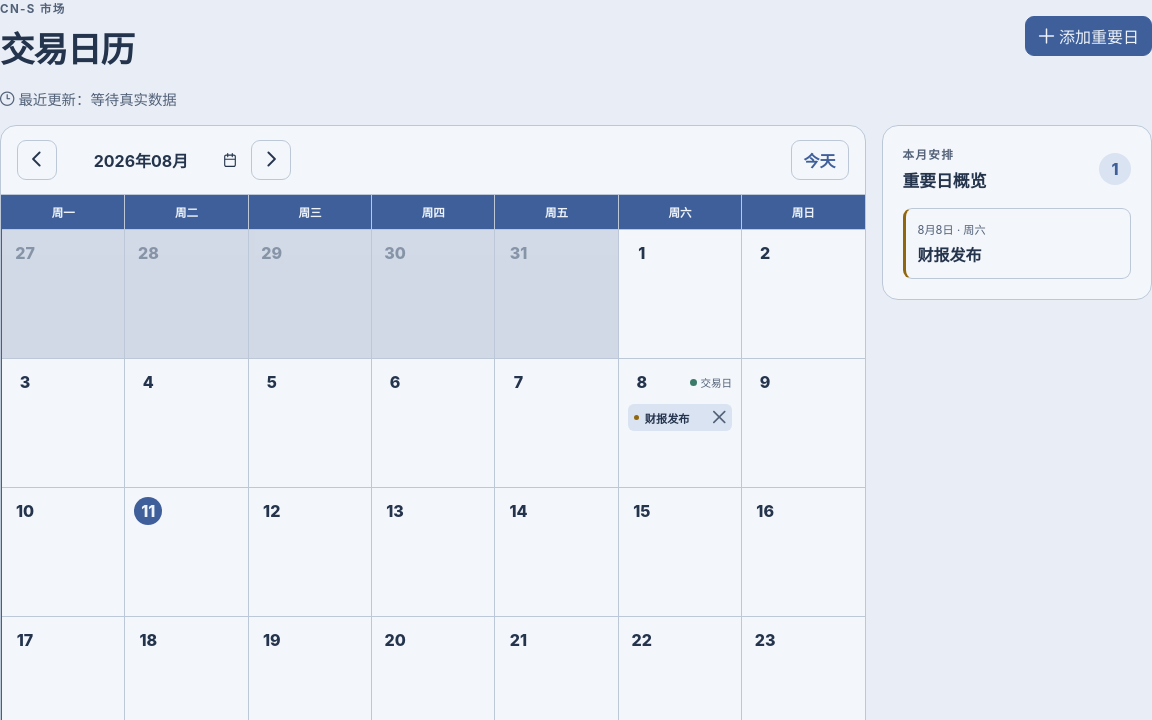
calendar workspace › edits an important date and keeps the refreshed API value
Click the button with aria-label "编辑重要日" at (667, 418), box [628,404,706,431]
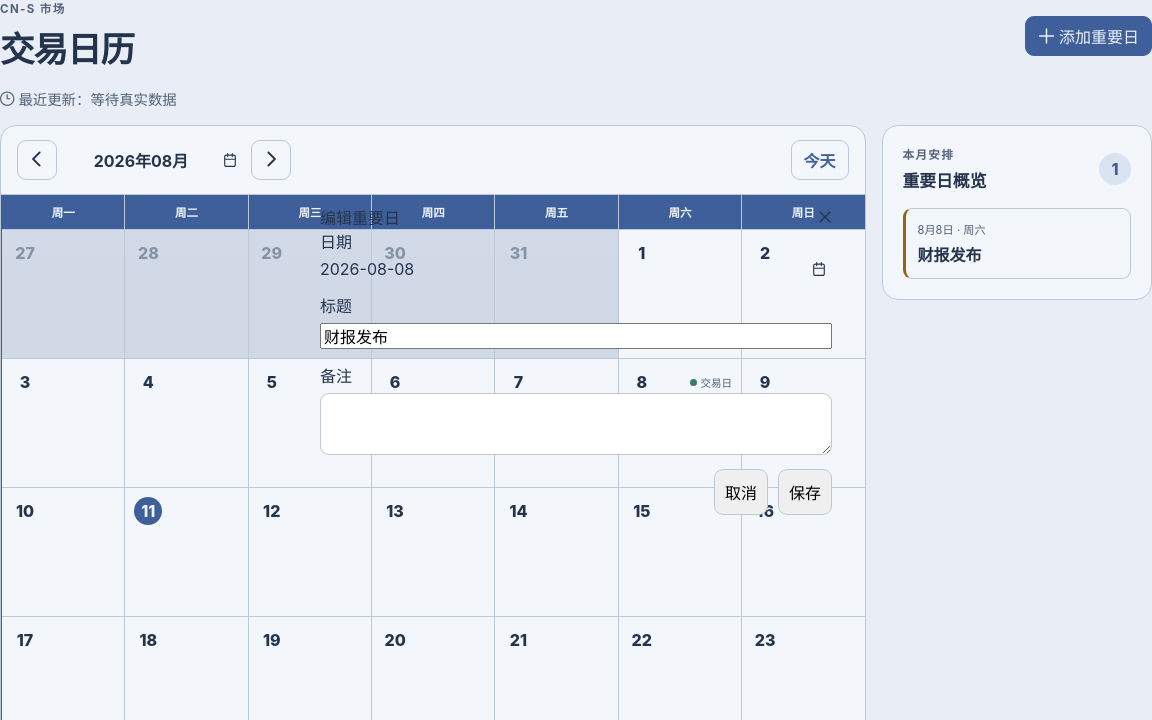
Replace the text in the dropdown labelled "日期" with "财报发布（更新）" at (563, 269), box [320,259,806,279]
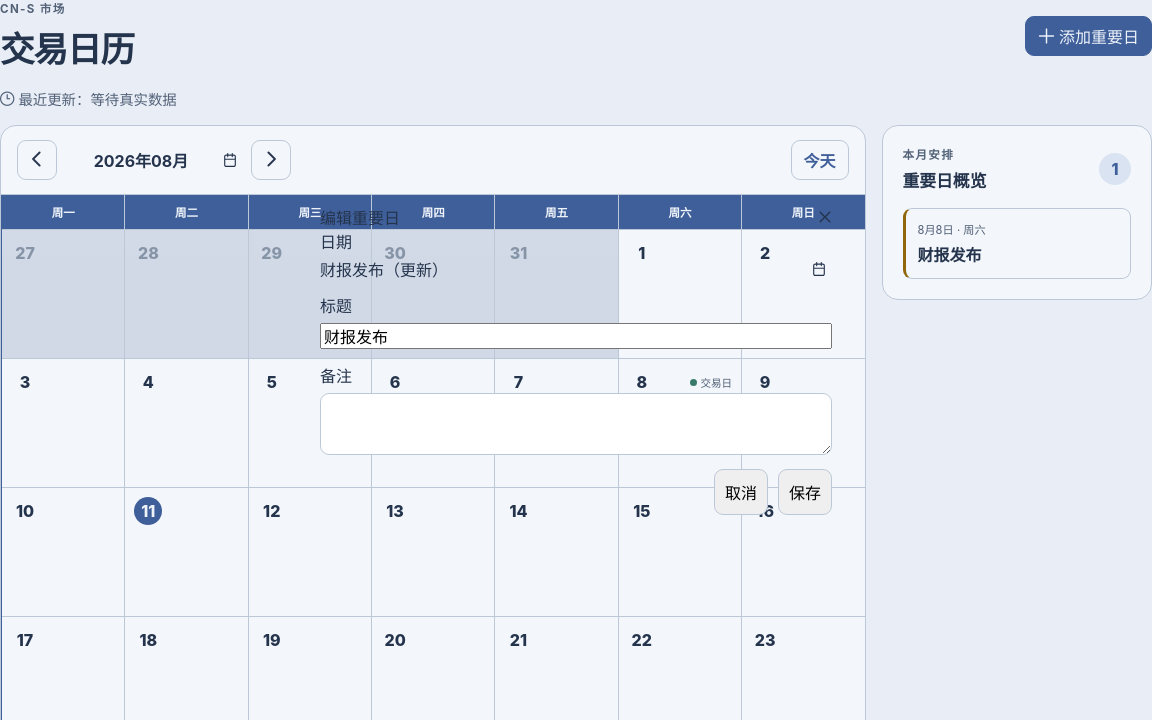
Submit the form, box [320,229,832,515]
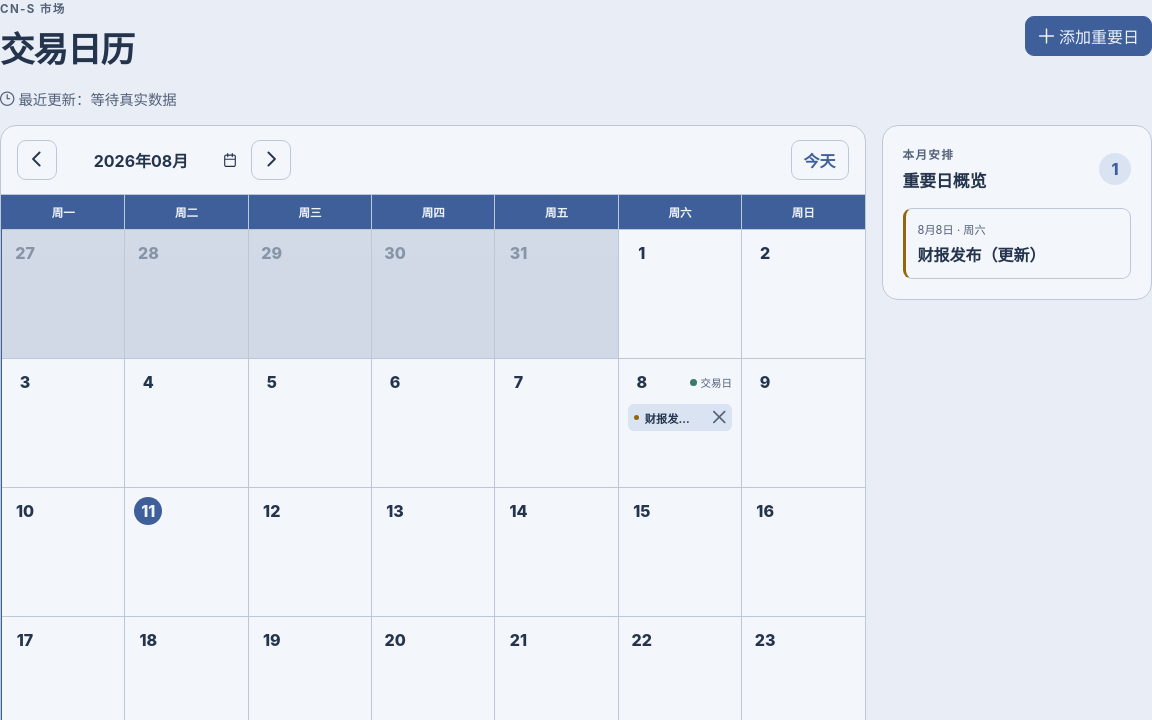
Now the text "财报发布（更新）" is shown, box [645,410,700,426]
